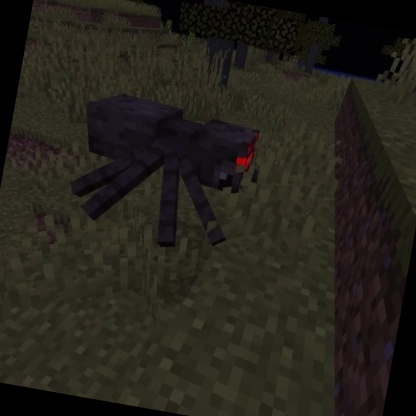spider: (56, 82, 273, 267)
